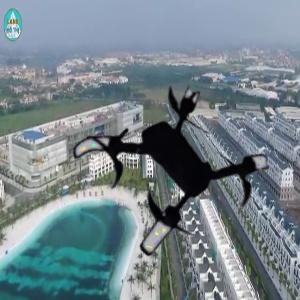drone: (68, 76, 267, 275)
